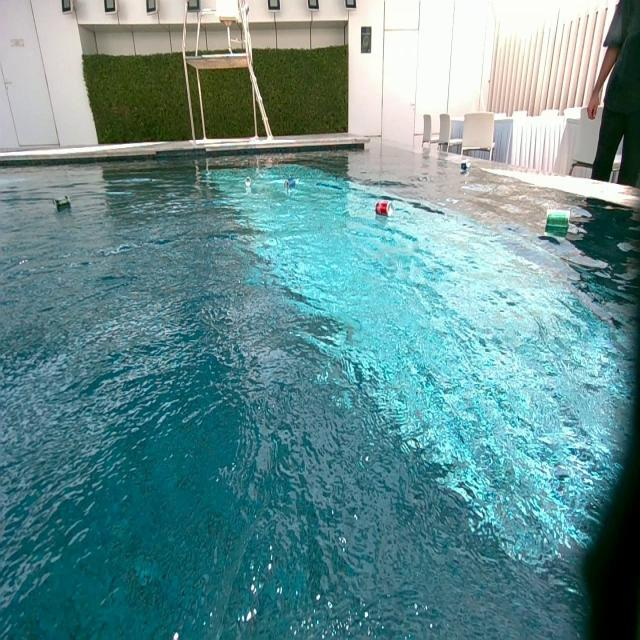Cans: (547, 210, 571, 232), (55, 196, 72, 214), (376, 200, 392, 217), (286, 178, 297, 190), (461, 162, 469, 172), (243, 180, 250, 190)
